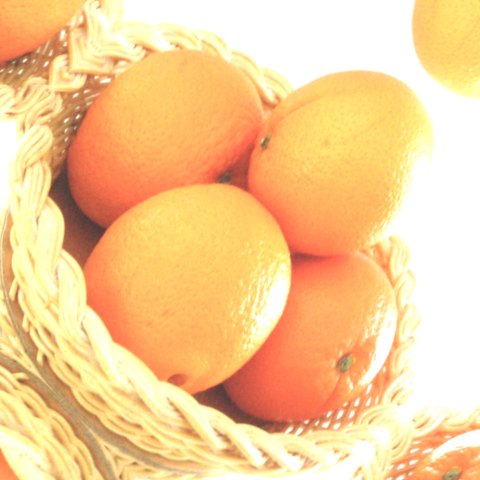orange: (28, 120, 359, 450), (22, 0, 304, 274), (216, 14, 480, 281), (205, 206, 451, 451)
